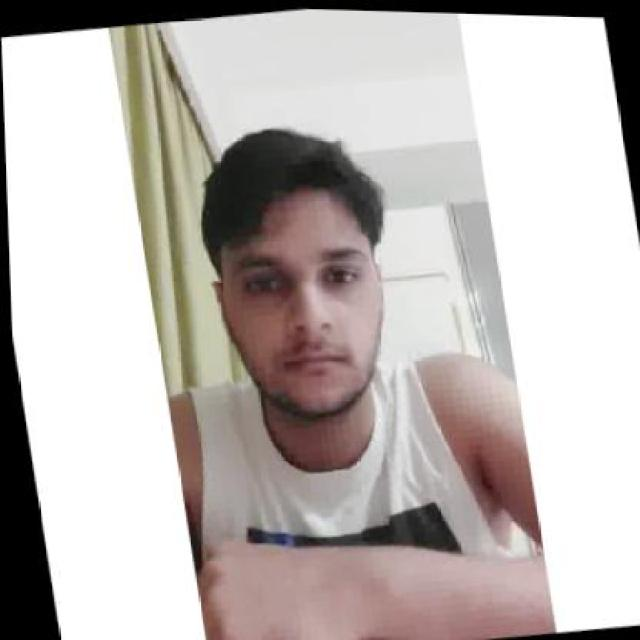attentif: (187, 117, 402, 426)
